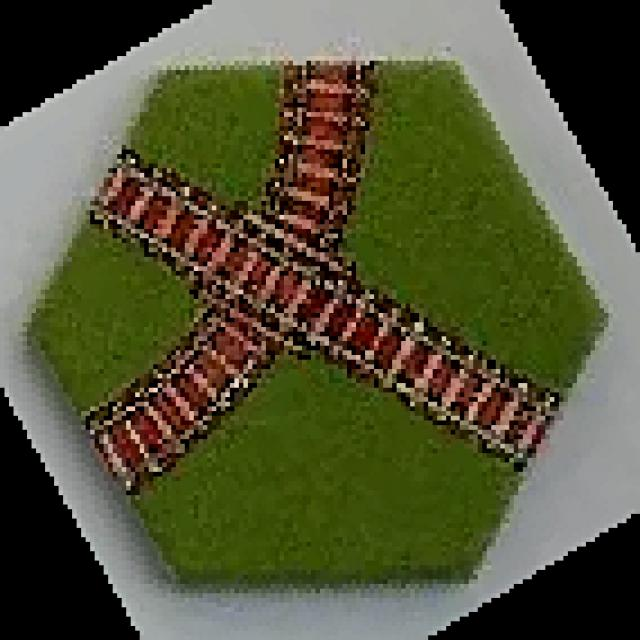8_5: (31, 56, 614, 584)
